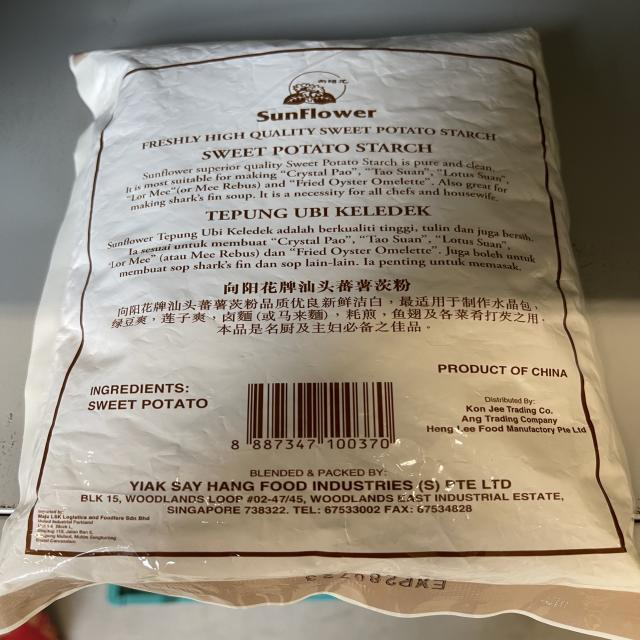object_name: (76, 52, 640, 614)
